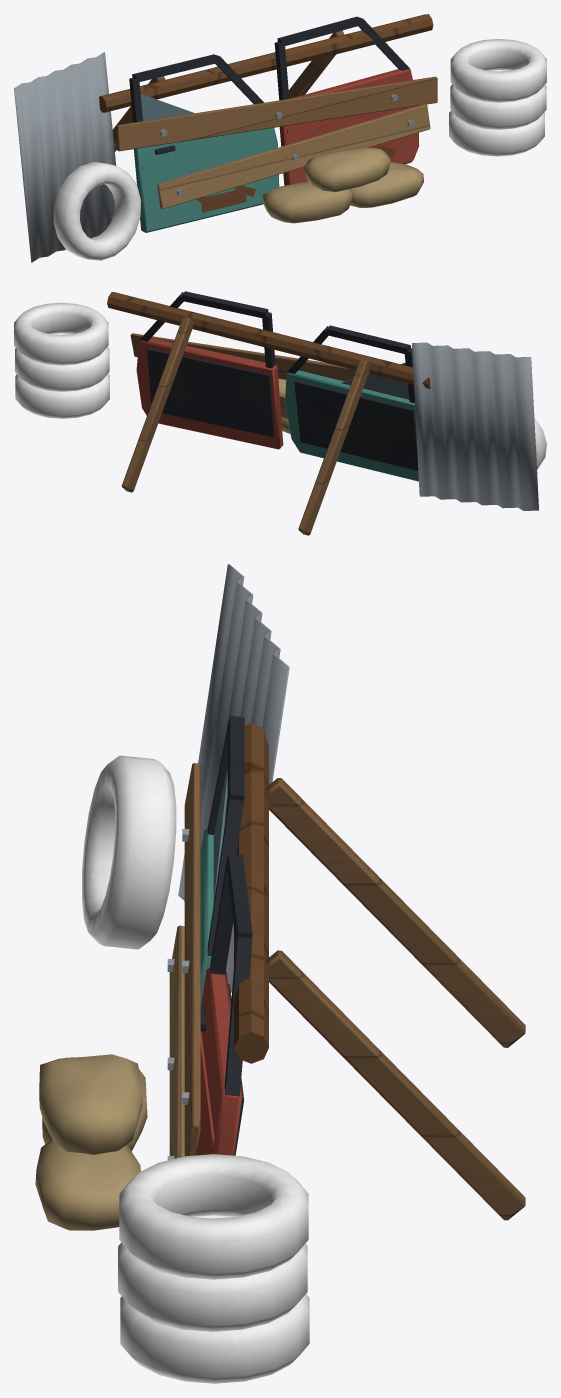
The model's file is barricade_scrap.glb.
3 renders of one model, top to bottom at view 1: azimuth 30°, elevation 25°; view 2: azimuth 150°, elevation 25°; view 3: azimuth 270°, elevation 25°, orthographic. The views are drawn at different scales.
Visible parts, largest first — view 1: barricade_scrap; view 2: barricade_scrap; view 3: barricade_scrap.
Part boxes in pixels (bbox=[...]): barricade_scrap: bbox=[14, 14, 546, 262]; barricade_scrap: bbox=[14, 291, 546, 535]; barricade_scrap: bbox=[35, 564, 525, 1383].
Bounding box in the file's own units: 4.08 × 1.25 × 1.68.
Materials: 15 (15 with a texture image).
